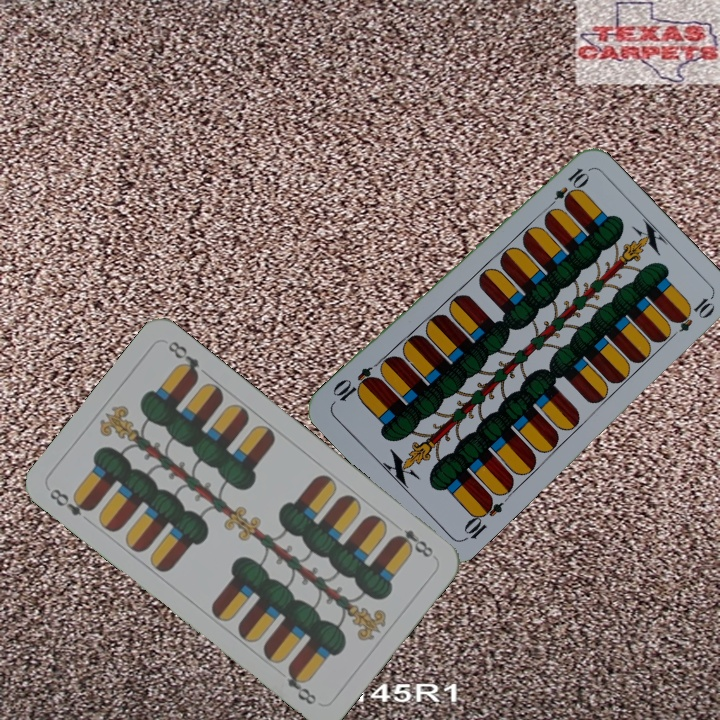E10: (459, 492, 506, 544), (542, 164, 591, 213)
E8: (45, 484, 96, 519), (389, 525, 438, 561)
